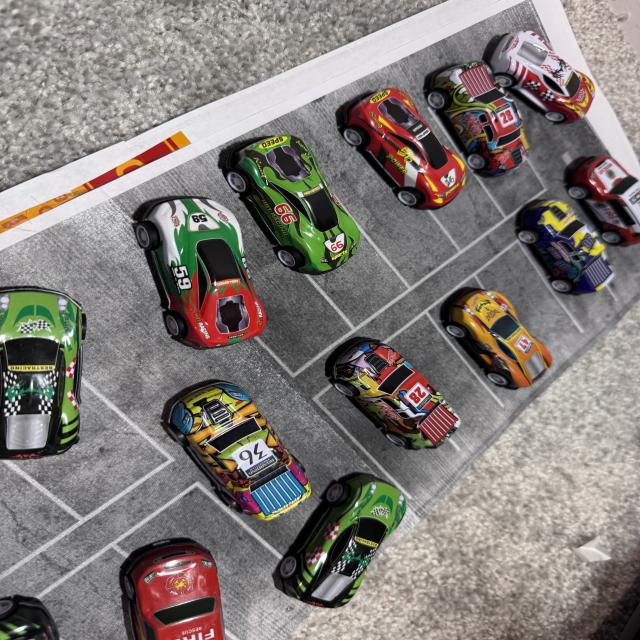Car: (275, 310, 497, 481), (149, 382, 311, 538), (124, 173, 273, 340), (72, 531, 278, 640), (227, 127, 384, 260), (315, 85, 468, 208), (0, 270, 88, 481), (296, 467, 415, 620), (420, 276, 562, 388), (429, 56, 548, 175), (471, 21, 618, 113), (496, 204, 633, 297), (555, 137, 640, 236)
